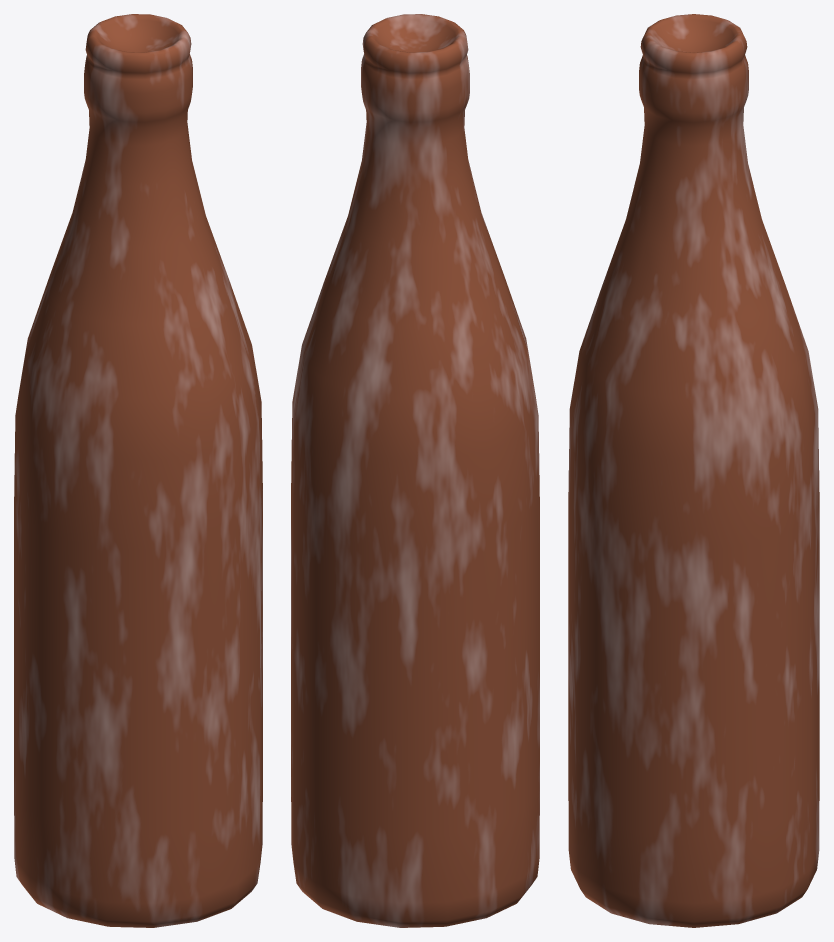
File: bottle.obj
3 renders of one model, left to right at view 1: azimuth 30°, elevation 25°; view 2: azimuth 150°, elevation 25°; view 3: azimuth 270°, elevation 25°, orthographic.
Visible parts, largest first — view 1: Bottle; view 2: Bottle; view 3: Bottle.
Boxes of the visible parts, left/top/right/bottom form: Bottle: left=14, top=14, right=262, bottom=927; Bottle: left=291, top=14, right=539, bottom=927; Bottle: left=568, top=14, right=819, bottom=927.
Size of the model in its own units: 1.25 by 4.66 by 1.25.
